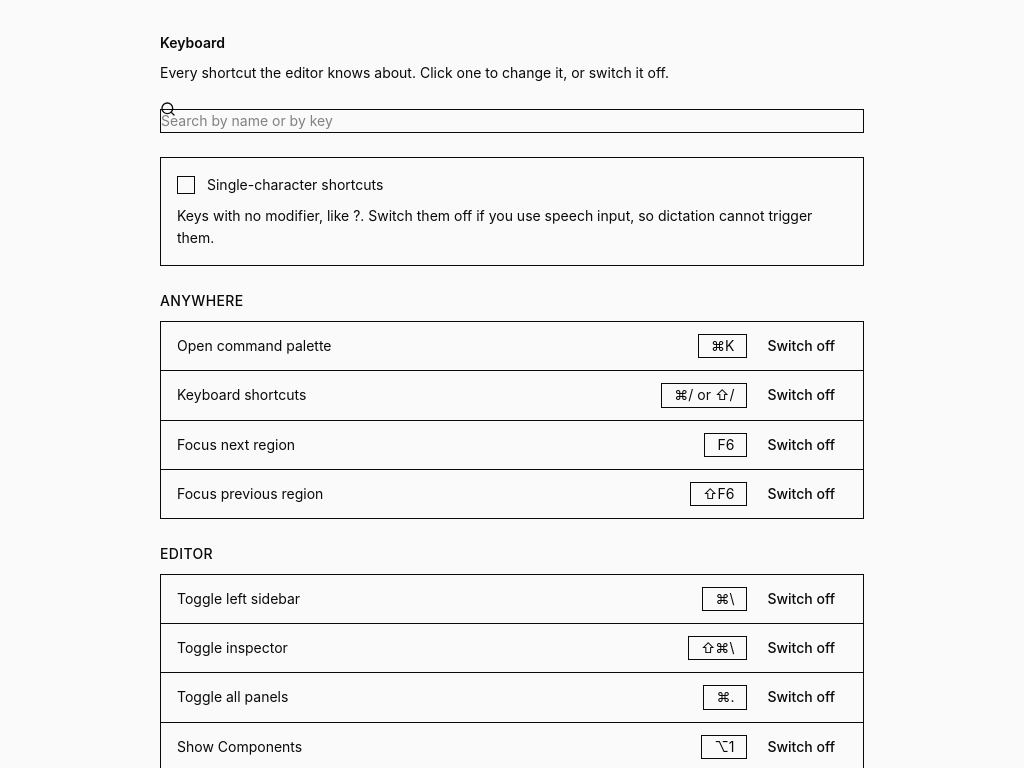
KeyboardSettings › remapping › puts the setting back when the save failed
Click the button "⇧⌘\\". click: x=718, y=648
box: left=688, top=636, right=747, bottom=660
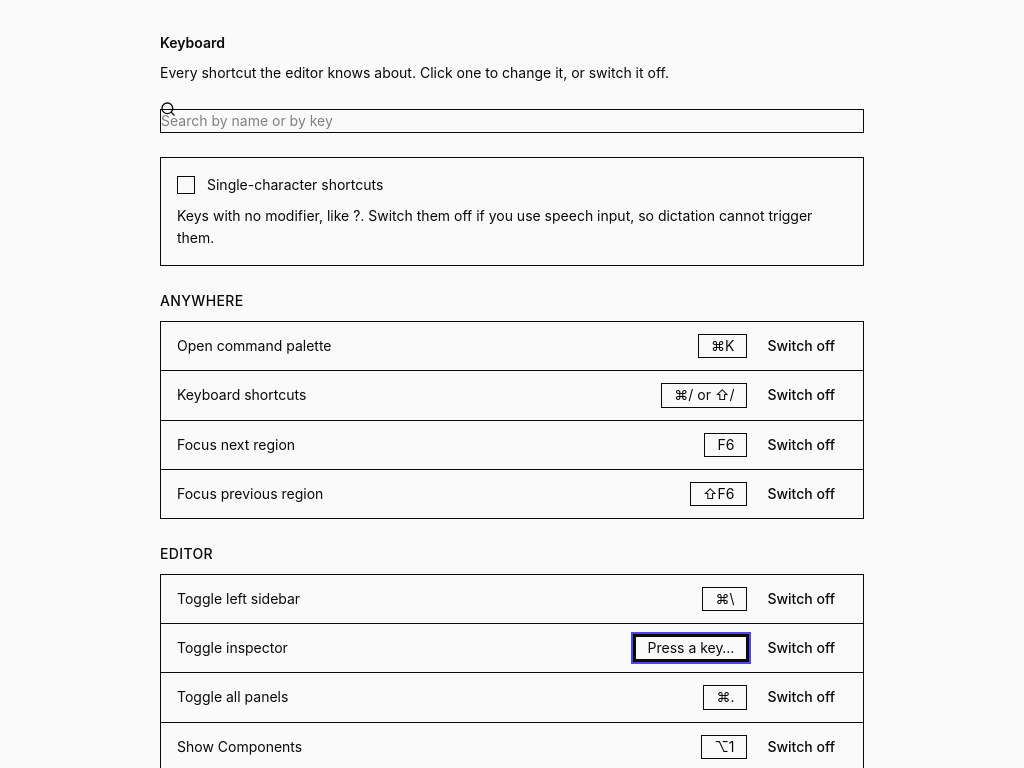
Type keys "{Meta>}j{/Meta}"
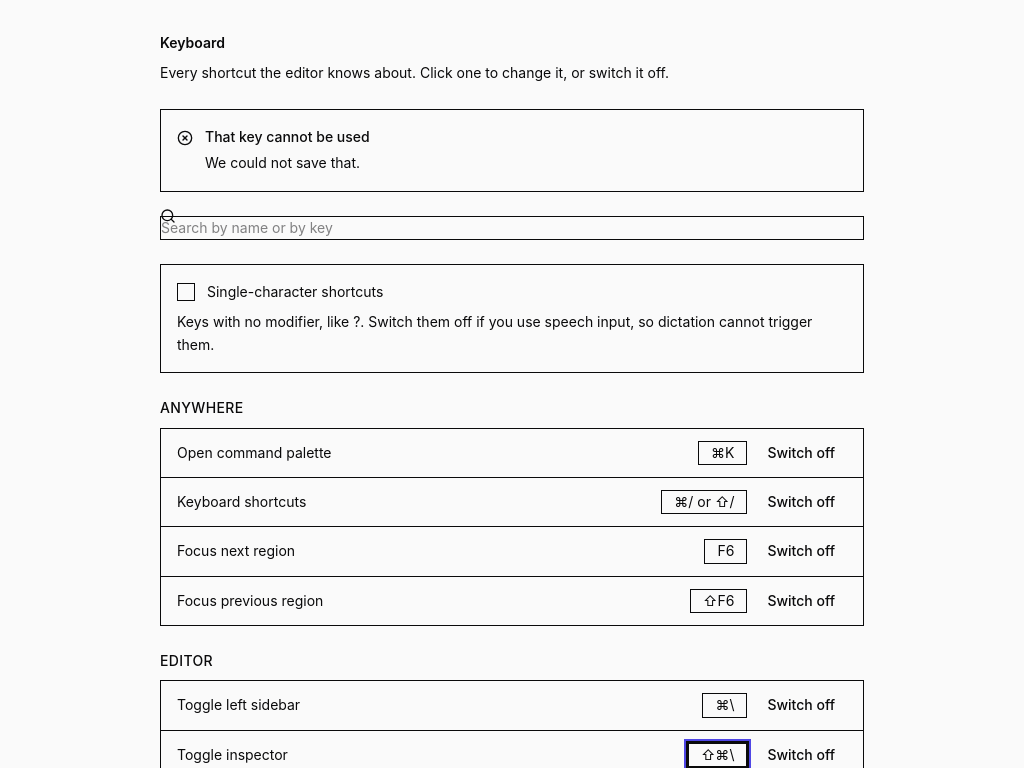
Check: the text "We could not save that." is shown, box left=205, top=154, right=360, bottom=171
